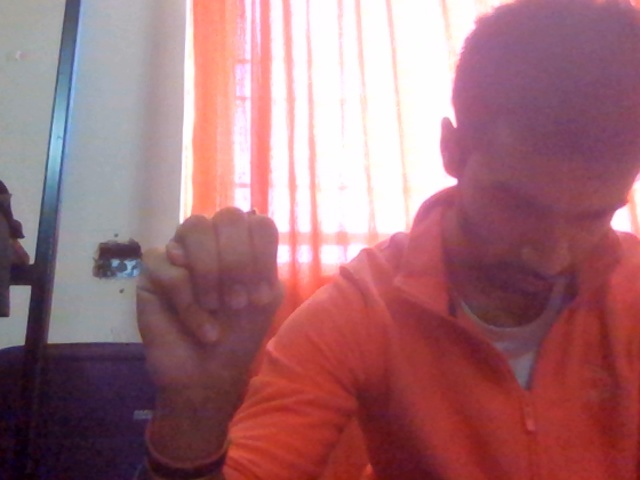M: (90, 173, 310, 453)
